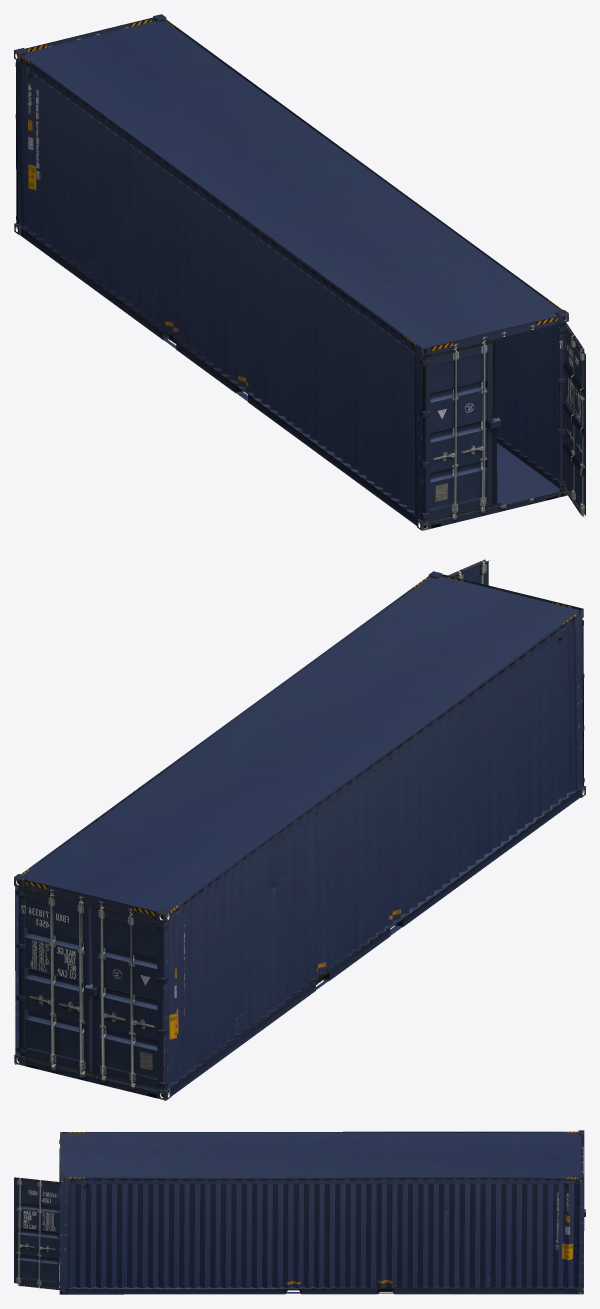
Rendered from container_open.fbx.
The picture shows the model from 3 angles, top to bottom: view 1: azimuth 30°, elevation 25°; view 2: azimuth 150°, elevation 25°; view 3: azimuth 270°, elevation 25°; orthographic projection. The views are drawn at different scales.
Visible parts, largest first — view 1: Plane, Plane.001, Plane.003, Plane.002; view 2: Plane, Plane.001; view 3: Plane, Plane.001, Plane.003.
Part boxes in pixels (x1=…): Plane: x1=14, y1=14, x2=568, y2=530; Plane.001: x1=20, y1=20, x2=560, y2=349; Plane.003: x1=563, y1=322, x2=585, y2=517; Plane.002: x1=20, y1=235, x2=559, y2=524; Plane: x1=14, y1=571, x2=585, y2=1100; Plane.001: x1=23, y1=576, x2=581, y2=911; Plane: x1=59, y1=1130, x2=585, y2=1294; Plane.001: x1=61, y1=1133, x2=581, y2=1177; Plane.003: x1=14, y1=1177, x2=59, y2=1289.
Size of the model in its own units: 2.77 by 3.28 by 14.43.
Materials: 2 (2 with a texture image).
